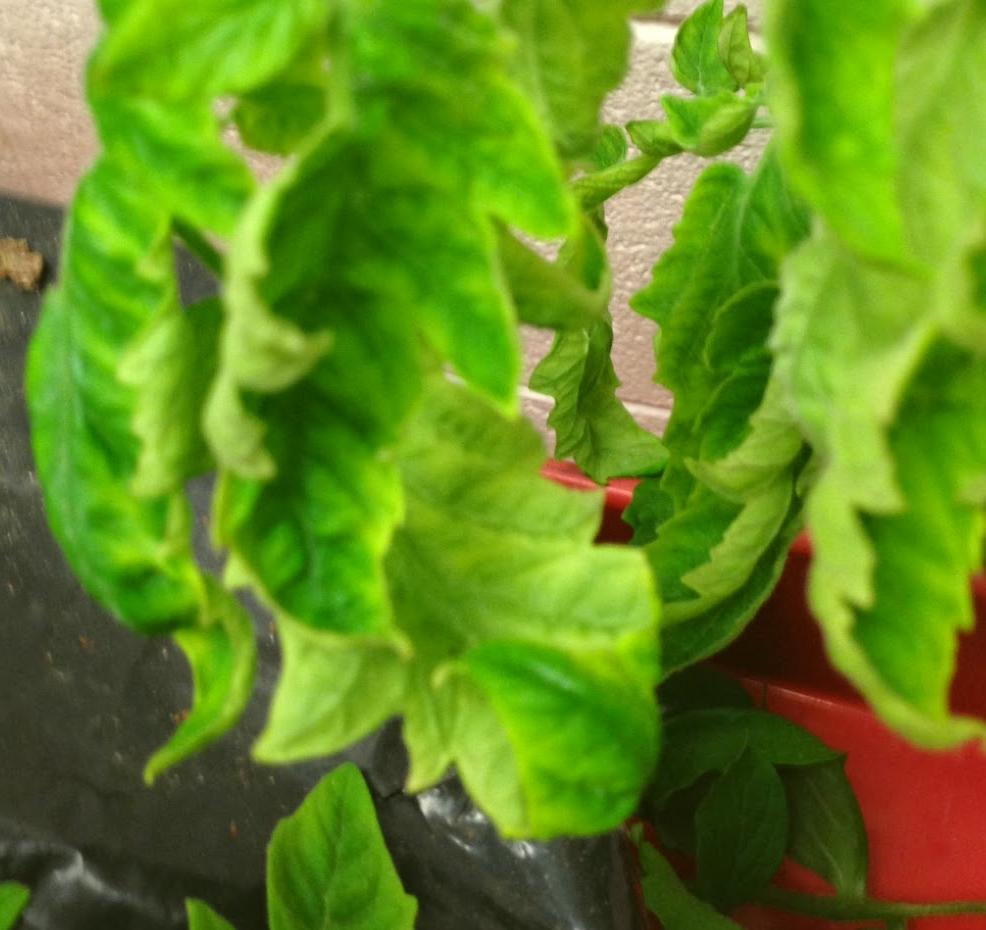Tomato leaf yellow virus: (192, 0, 535, 686), (0, 0, 207, 651), (724, 0, 922, 289), (253, 771, 411, 930)
